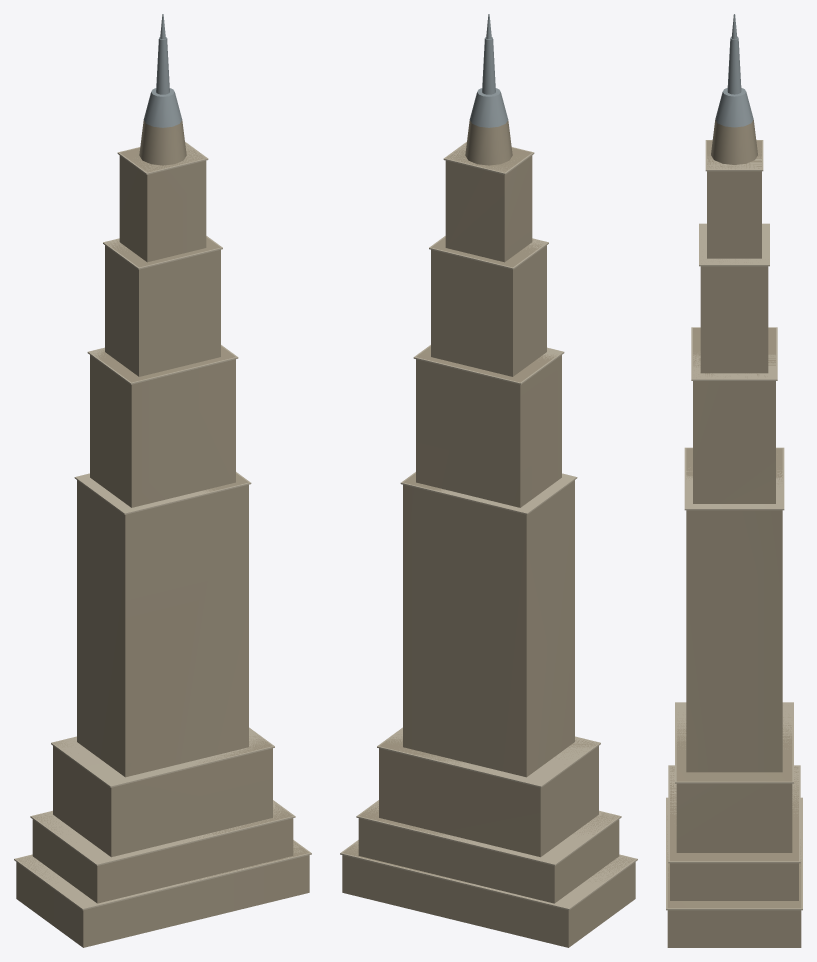
File: landmark-empire-state-far-v2.glb
The picture shows the model from 3 angles, left to right: view 1: azimuth 30°, elevation 25°; view 2: azimuth 150°, elevation 25°; view 3: azimuth 270°, elevation 25°; orthographic projection.
Visible parts, largest first — view 1: Empire State Building; view 2: Empire State Building; view 3: Empire State Building.
Part boxes in pixels (x1,y1,x2,y2): Empire State Building: (14, 14, 311, 947); Empire State Building: (340, 14, 637, 947); Empire State Building: (666, 14, 802, 947).
Size of the model in its own units: 0.272 by 1 by 0.1411.
